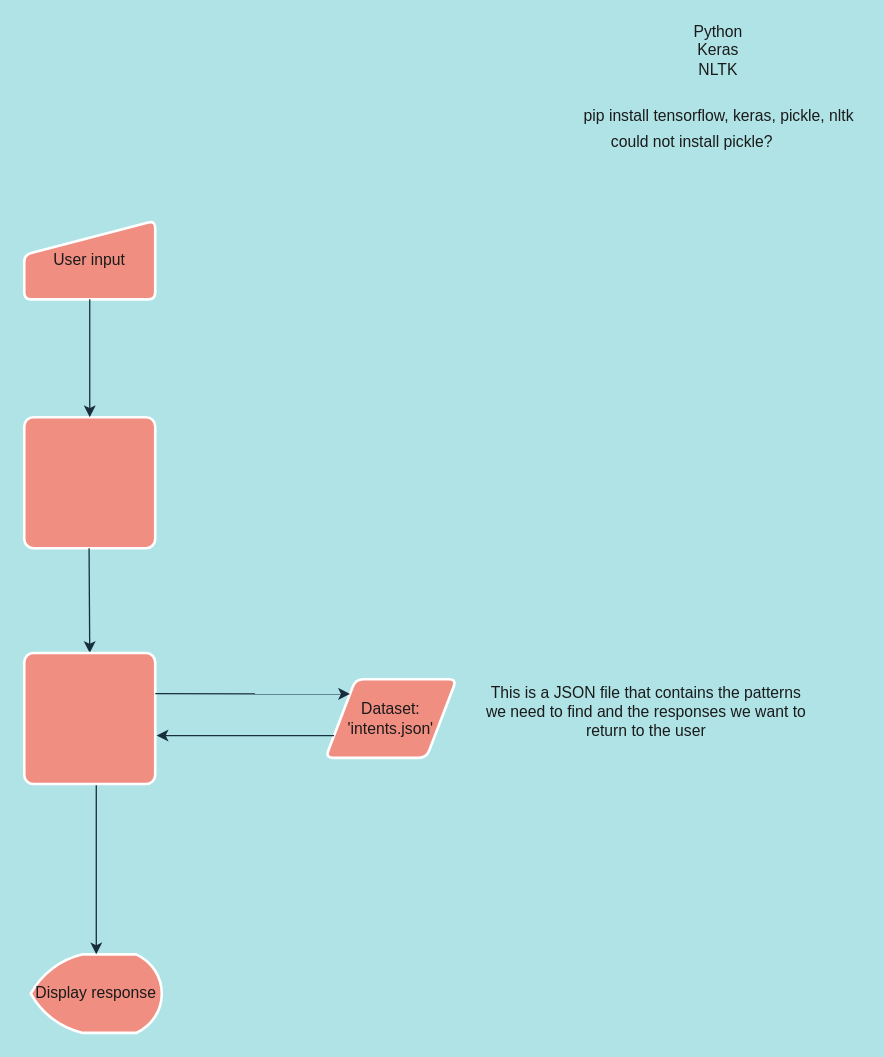
This 884x1057 diagram has some shape labels left out. Each missing label, with the centre of its shape:
"Classify which category user's message belongs to" goes at pixel 89 482.
"Select random response from list of responses in dataset" goes at pixel 89 718.
